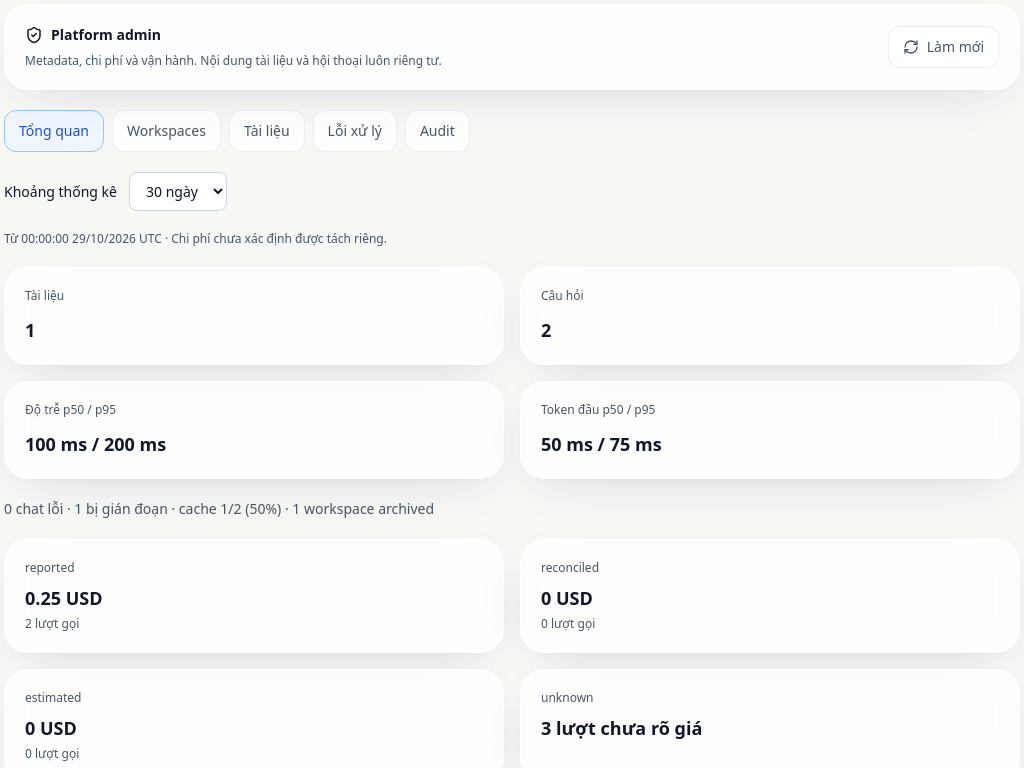
continues a filtered empty catalog page and resets pagination when filters change
Click the button "Tài liệu".
click(267, 131)  # box [229,110,305,152]
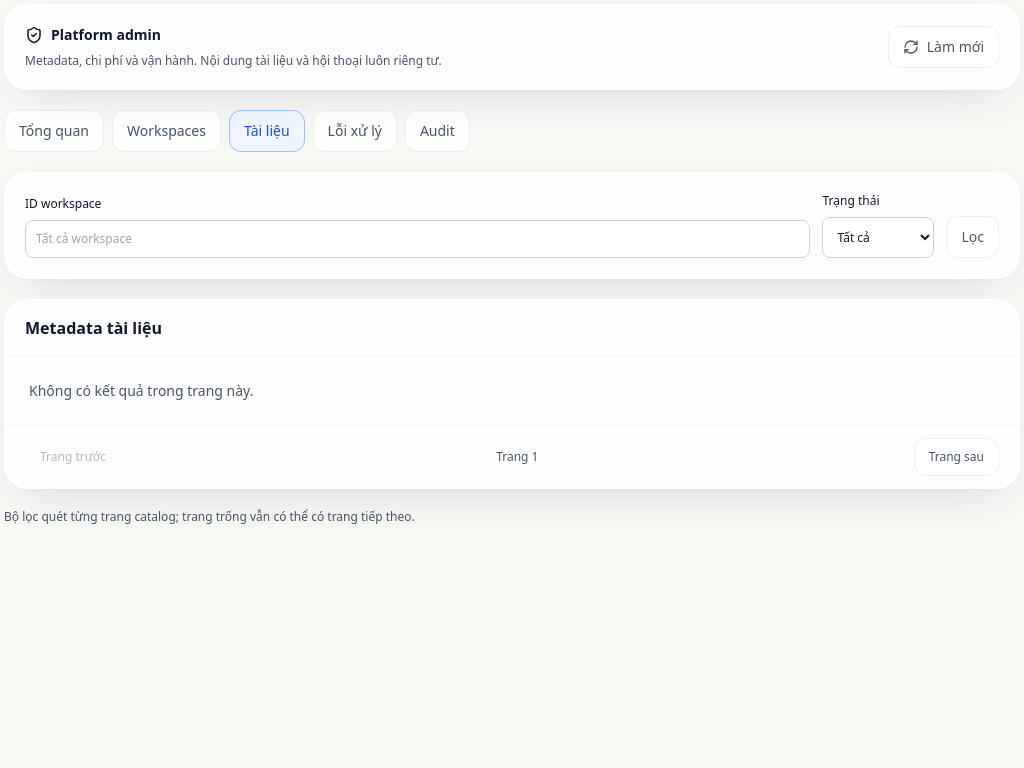
Expected: the text "Không có kết quả trong trang này." is shown, [29,381,253,400]
Click the button "Trang sau".
click(956, 457)  # box [914,438,999,476]
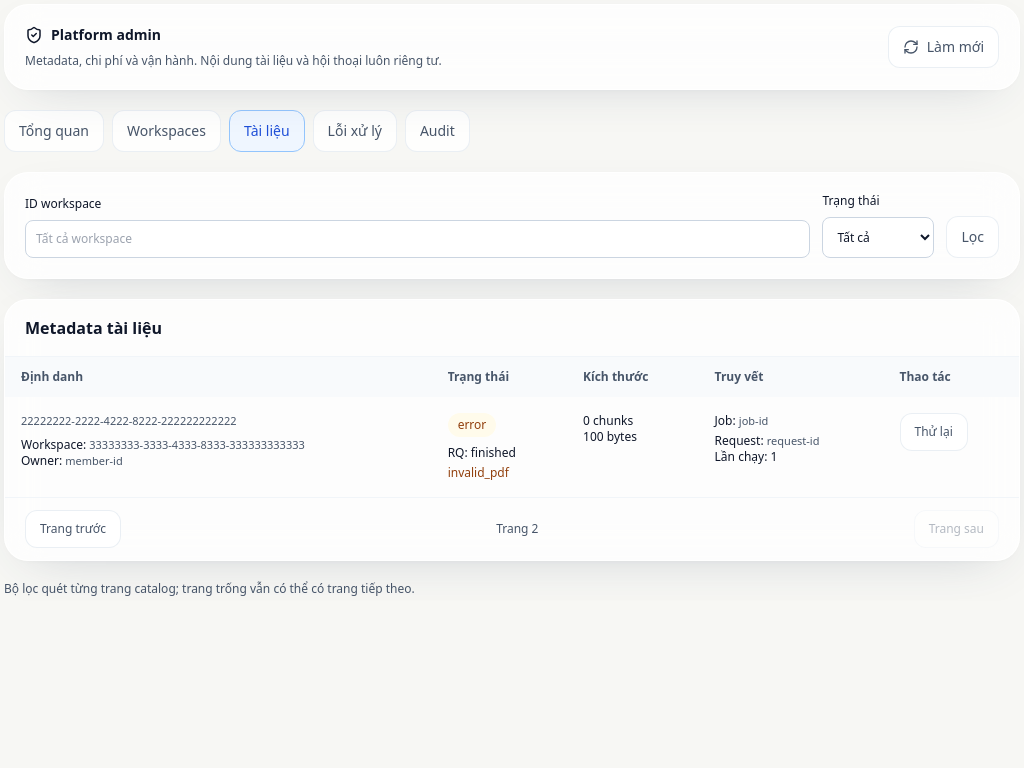
Expected: the text "22222222-2222-4222-8222-222222222222" is shown, [21,413,236,428]
Expected: the text "Trang 2" is shown, [496,521,538,537]
Select "error" in the dropdown labelled "Trạng thái" at (878, 238), box [822,217,934,258]
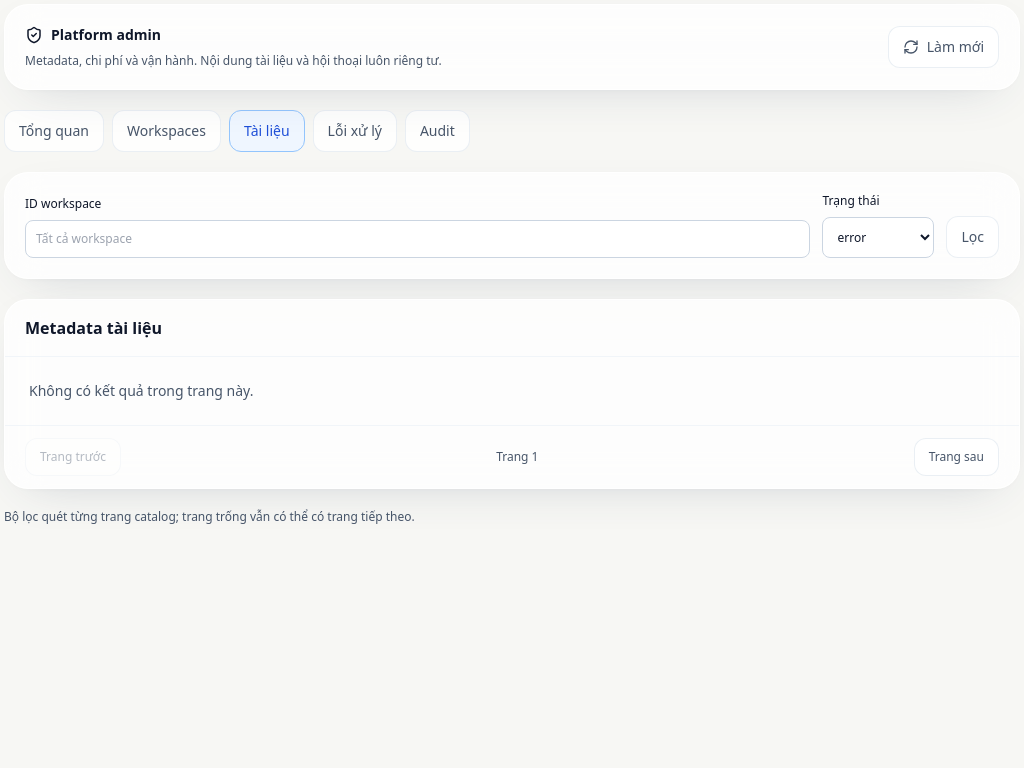
Expected: the text "22222222-2222-4222-8222-222222222222" is gone
Expected: the button "Trang trước" is disabled, [25,438,121,476]
